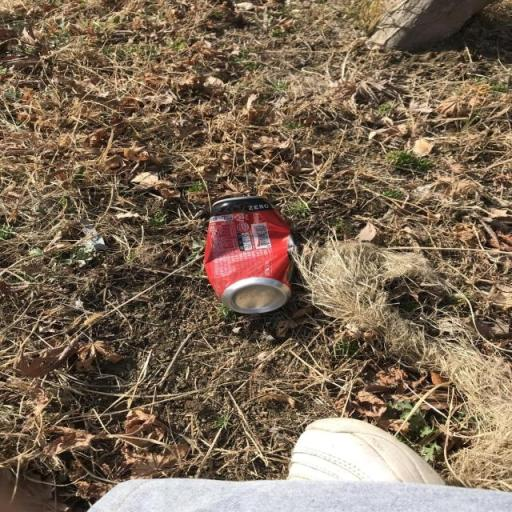metal: (138, 179, 366, 329)
